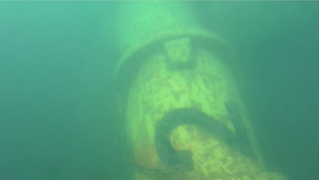2: (156, 101, 258, 171)
pipe: (112, 1, 285, 180)
